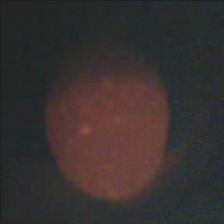fertile: (42, 43, 174, 207)
